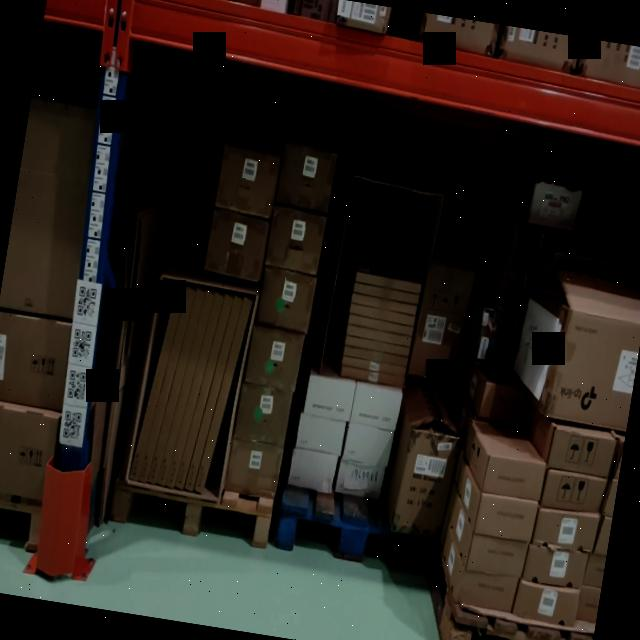box: (147, 289, 205, 486), (175, 294, 233, 490), (184, 297, 242, 492), (194, 299, 252, 493), (157, 290, 214, 487), (138, 287, 195, 483), (166, 294, 223, 489), (129, 286, 185, 481), (393, 431, 461, 541), (411, 265, 475, 380), (204, 210, 268, 280), (275, 143, 338, 214), (216, 147, 280, 216), (265, 209, 326, 274), (256, 269, 317, 333), (245, 327, 304, 390), (233, 385, 292, 447), (549, 428, 616, 477), (475, 493, 538, 543), (226, 444, 283, 497), (522, 546, 589, 589), (542, 472, 607, 515), (466, 535, 528, 580), (533, 511, 599, 553), (514, 585, 579, 625), (458, 570, 519, 612), (485, 460, 546, 501), (351, 383, 401, 429), (304, 376, 355, 419), (343, 425, 393, 467), (295, 417, 345, 457), (287, 452, 337, 491), (336, 461, 386, 497), (349, 304, 415, 327), (355, 272, 421, 293), (351, 294, 417, 315), (346, 326, 412, 347), (348, 314, 413, 335), (353, 284, 419, 304), (345, 337, 410, 357), (343, 348, 408, 367), (340, 368, 405, 387), (342, 357, 406, 376)
